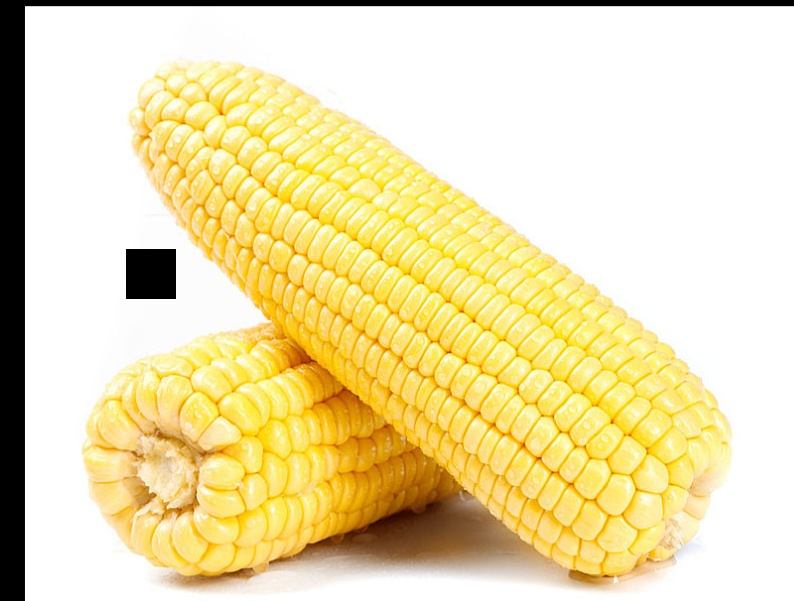corn: (133, 58, 710, 548), (81, 294, 575, 576)
